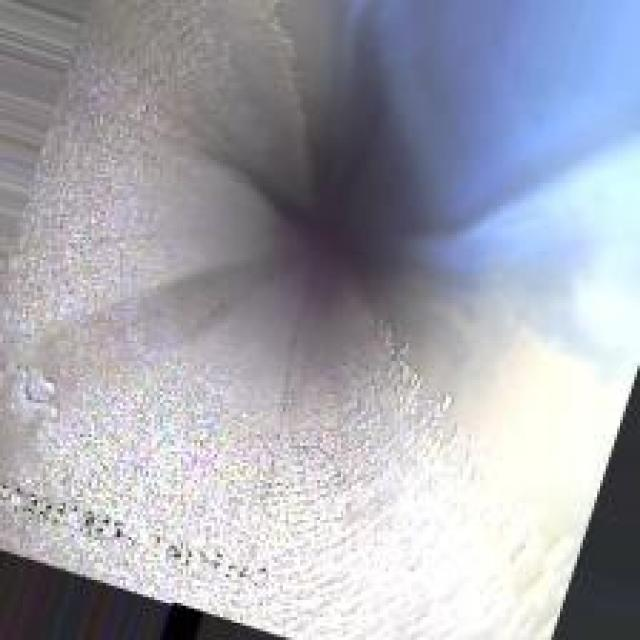ferrule: (8, 354, 63, 417)
